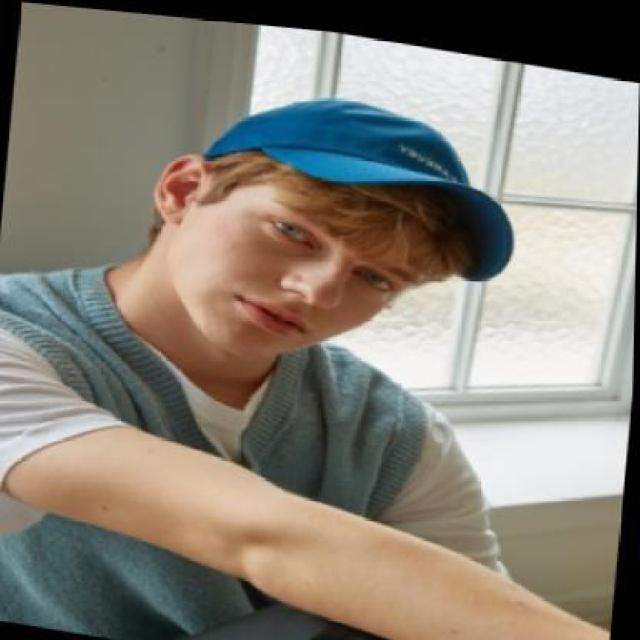hat: (186, 63, 536, 283)
